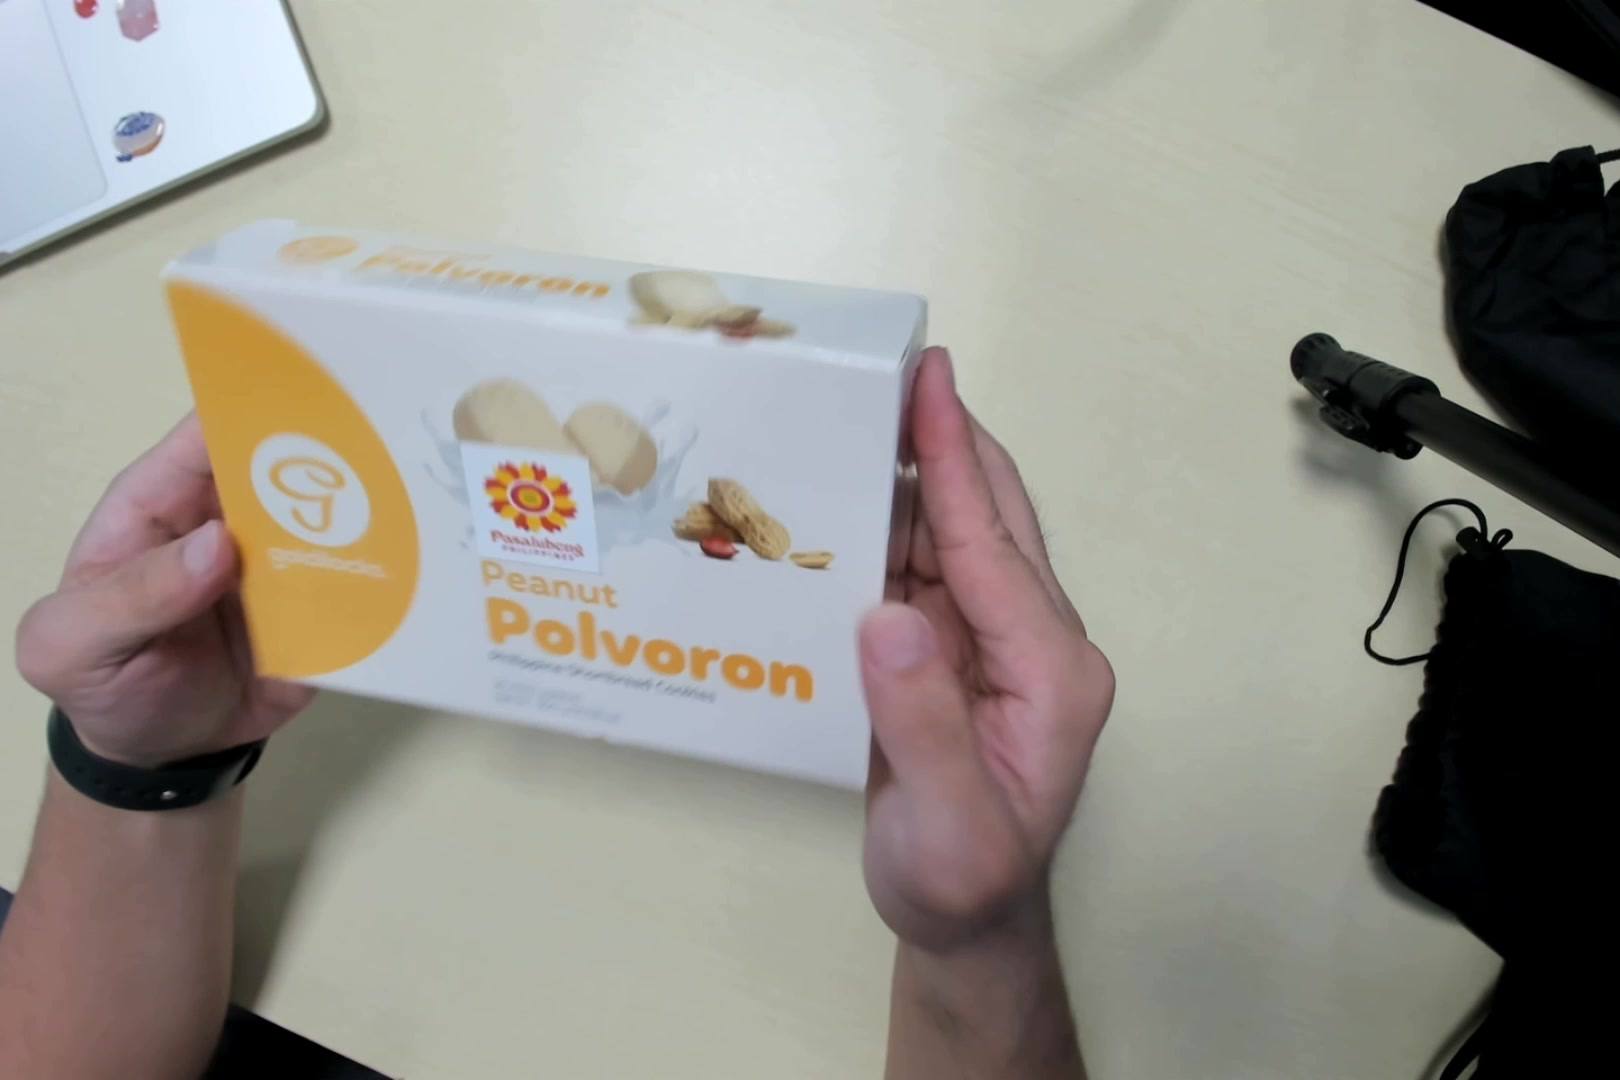SweetsChocolatesOthers_300-399g_Halal_NonHealthy: (192, 216, 926, 798)
